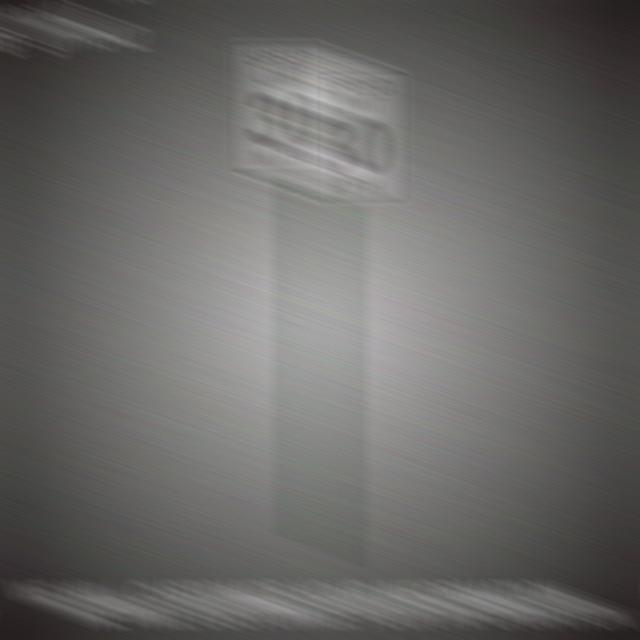speedLimit30: (259, 39, 380, 199)
